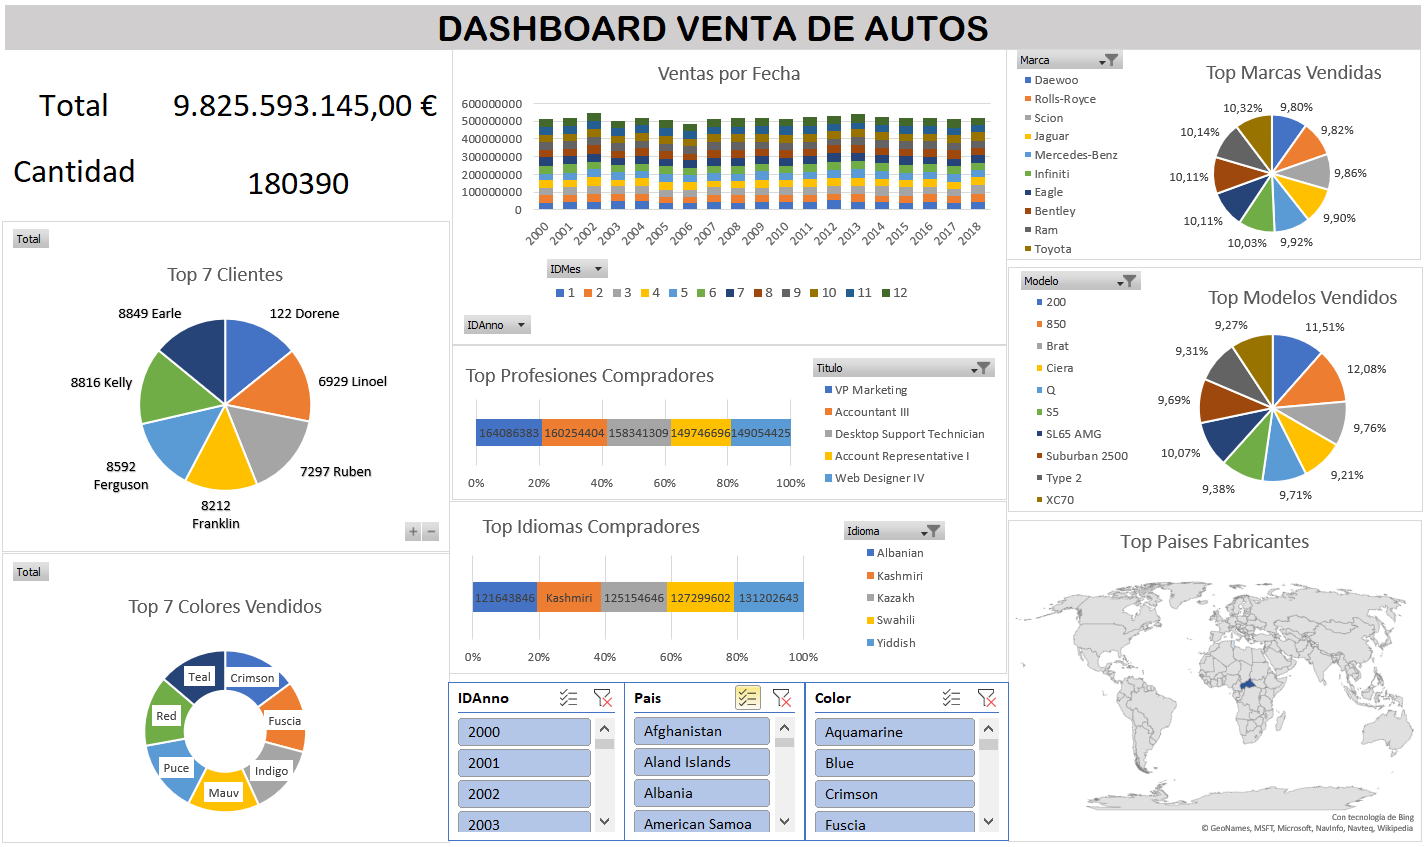

Layout of this report page (visuals, bound fields, positions):
{"tool":"powerbi","page":{"name":"DashBoard","canvas":[1280,720],"ordinal":0},"visuals":[{"type":"columnChart","title":"Ventas por Fecha","fields":{"Category":["Fecha.IDAnno"],"Y":["Sum(Factura.Total)"],"Series":["Mes.Nombre"]},"box":[407.3,51.7,515.2,343.5],"z":0},{"type":"card","fields":{"Values":["Sum(Factura.Total)"]},"box":[0,48.5,183.3,104.4],"z":12},{"type":"card","fields":{"Values":["Sum(Factura.Cantidad)"]},"box":[183.3,49.3,198.9,104.4],"z":13},{"type":"textbox","box":[1.6,0,1276.7,50.1],"z":14},{"type":"slicer","title":"Año","fields":{"Values":["Anno.IDAnno"]},"box":[5.5,602.2,373.2,100.2],"z":1000},{"type":"slicer","fields":{"Values":["Color.Color"]},"box":[665.1,576.3,252.5,143.8],"z":2000},{"type":"pieChart","title":"Top 10 Clientes","fields":{"Category":["Factura.IDCliente"],"Series":["Nombre.Nombre"],"Y":["Sum(Factura.Total)"]},"box":[0,137.3,385.6,234.3],"z":3000},{"type":"donutChart","title":"Top Marcas Vendidas","fields":{"Category":["Marca.Marca"],"Y":["Sum(Factura.Total)"]},"box":[944.6,50.1,335.4,207.2],"z":4000},{"type":"filledMap","title":"Top Paises Fabricantes","fields":{"Size":["CountNonNull(Carro.IDCarro)"],"Category":["Pais.Pais"]},"box":[945.4,464.5,334.6,255.7],"z":5000},{"type":"slicer","fields":{"Values":["Pais.Pais"]},"box":[411,577.1,240.9,143],"z":7000},{"type":"barChart","title":"Top Idiomas Compradores","fields":{"Series":["Idioma.Idioma"],"Y":["Sum(Factura.Total)"]},"box":[407.3,399.6,552.7,179.4],"z":8000},{"type":"pieChart","title":"Top Modelos Vendidos","fields":{"Category":["Modelo.Modelo"],"Y":["Sum(Factura.Total)"]},"box":[944.6,249.9,335.4,221.1],"z":9000},{"type":"donutChart","title":"Colores Vendidos","fields":{"Series":["Color.Color"],"Y":["Sum(Factura.Total)"]},"box":[0,365,382.3,249.9],"z":10000}]}

Visuals, with their boxes on the page's 1280x720 design canvas (x1, y1, x2, y2). These are canvas units, not pixel positions in the 1424x847 screenshot, which may show the page scaled, cropped or inside an application window:
"Ventas por Fecha" columnChart: select_region(407, 52, 922, 395)
card - Sum(Factura.Total): select_region(0, 48, 183, 153)
card - Sum(Factura.Cantidad): select_region(183, 49, 382, 154)
textbox: select_region(2, 0, 1278, 50)
"Año" slicer: select_region(6, 602, 379, 702)
slicer - Color.Color: select_region(665, 576, 918, 720)
"Top 10 Clientes" pieChart: select_region(0, 137, 386, 372)
"Top Marcas Vendidas" donutChart: select_region(945, 50, 1280, 257)
"Top Paises Fabricantes" filledMap: select_region(945, 464, 1280, 720)
slicer - Pais.Pais: select_region(411, 577, 652, 720)
"Top Idiomas Compradores" barChart: select_region(407, 400, 960, 579)
"Top Modelos Vendidos" pieChart: select_region(945, 250, 1280, 471)
"Colores Vendidos" donutChart: select_region(0, 365, 382, 615)
